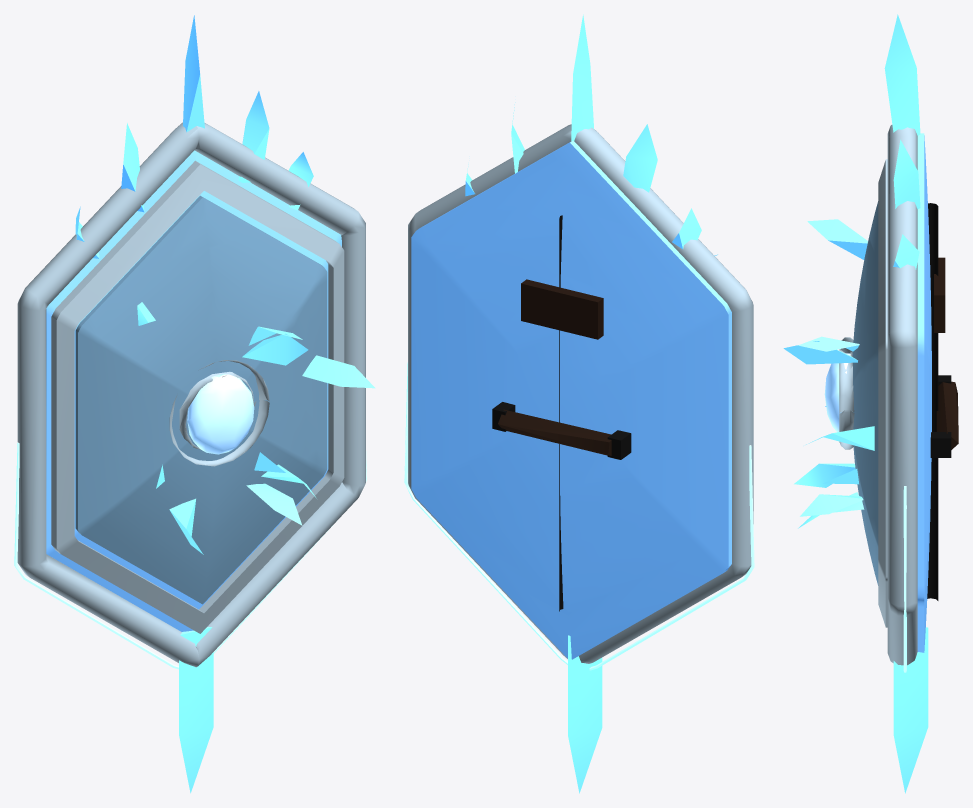
File: greatshield_5.glb
3 renders of one model, left to right at view 1: azimuth 30°, elevation 25°; view 2: azimuth 150°, elevation 25°; view 3: azimuth 270°, elevation 25°, orthographic.
Parts seen in each view (by area): view 1: greatshield_5; view 2: greatshield_5; view 3: greatshield_5.
Boxes of the visible parts, <box> form: greatshield_5: <box>14,15,375,793</box>; greatshield_5: <box>404,14,754,793</box>; greatshield_5: <box>783,14,958,793</box>.
Bounding box in the file's own units: 0.6345 × 1.35 × 0.2754.
